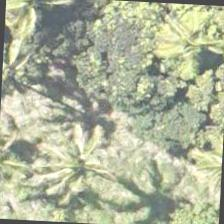Kelapa_Sawit: (43, 127, 138, 222), (149, 2, 223, 89), (3, 0, 89, 62), (0, 112, 49, 205)
